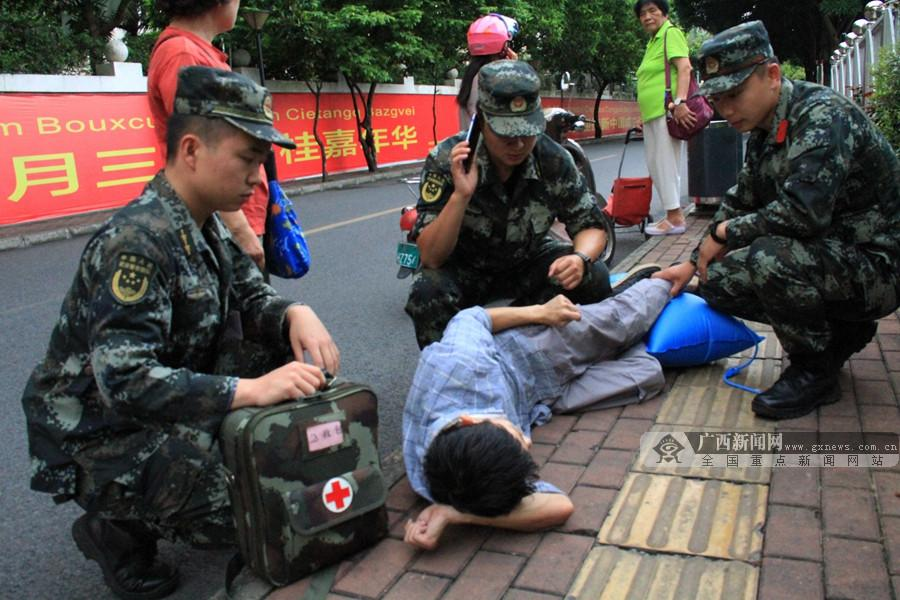bending: (15, 65, 383, 600), (650, 4, 900, 421), (398, 58, 620, 355)
down: (389, 248, 703, 557)
up: (619, 1, 724, 245)
